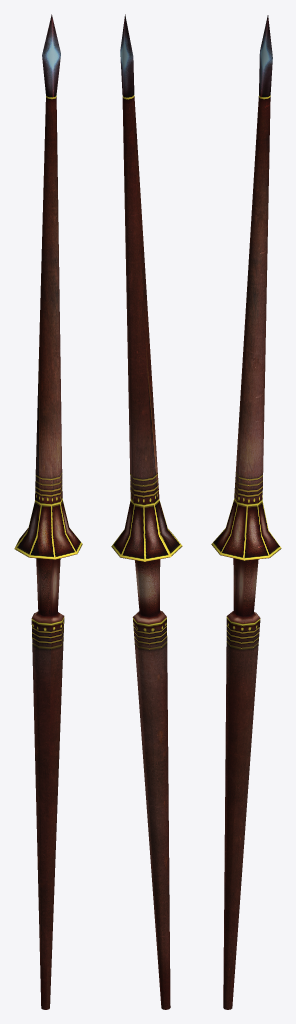
Rendered from Knight_Spear.FBX.
The picture shows the model from 3 angles, left to right: view 1: azimuth 30°, elevation 25°; view 2: azimuth 150°, elevation 25°; view 3: azimuth 330°, elevation 25°; orthographic projection. The views are drawn at different scales.
Visible parts, largest first — view 1: Knight_Spear; view 2: Knight_Spear; view 3: Knight_Spear.
Part boxes in pixels (x1,y1,x2,y2): Knight_Spear: (14, 14, 82, 1009); Knight_Spear: (111, 14, 182, 1009); Knight_Spear: (211, 15, 281, 1009).
Size of the model in its own units: 21.5 by 350 by 21.5.
